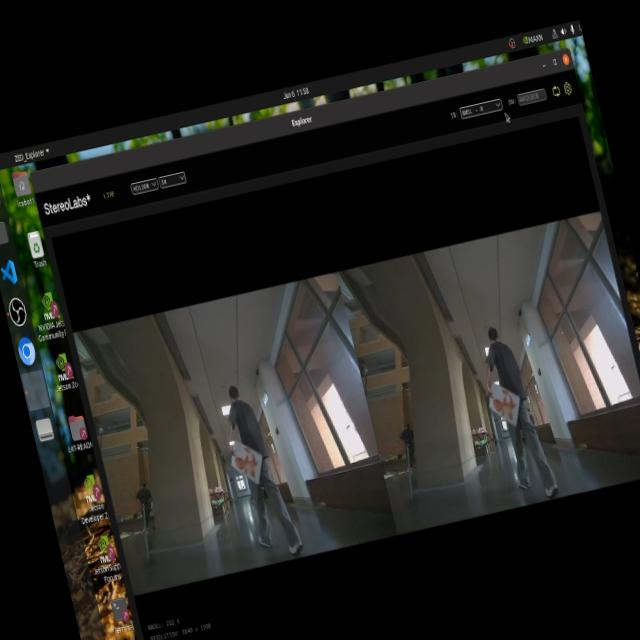red: (232, 444, 268, 488), (486, 387, 524, 428)
